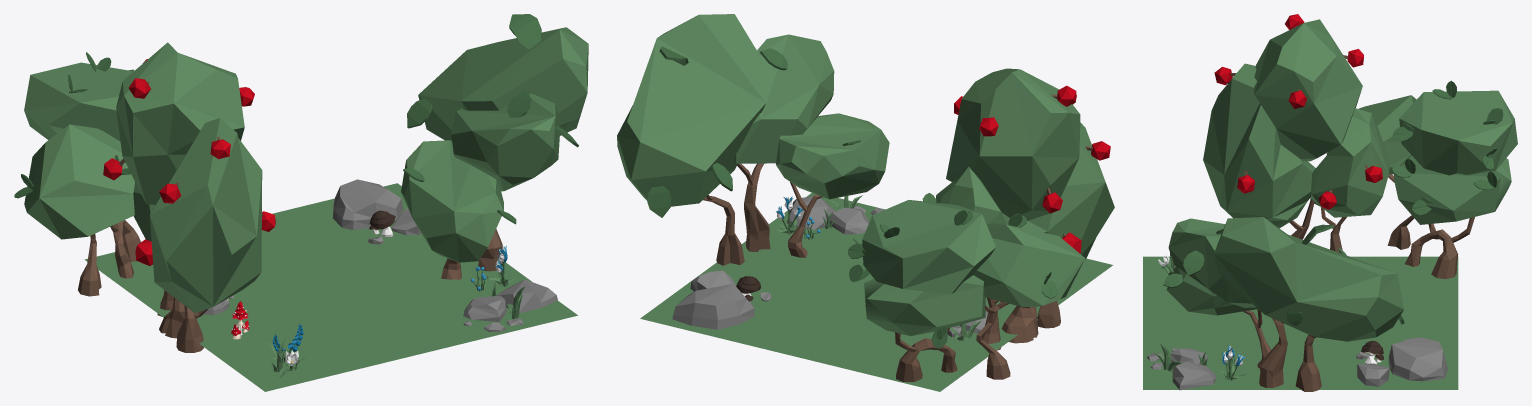
Rendered from emptyTile.fbx.
3 renders of one model, left to right at view 1: azimuth 30°, elevation 25°; view 2: azimuth 150°, elevation 25°; view 3: azimuth 270°, elevation 25°, orthographic. The views are drawn at different scales.
Parts seen in each view (by area): view 1: mashroom_1.005; view 2: mashroom_1.005; view 3: mashroom_1.005.
Part boxes in pixels (box(x1,y1,x2,y2)): mashroom_1.005: box(14, 14, 588, 391); mashroom_1.005: box(617, 14, 1114, 391); mashroom_1.005: box(1143, 14, 1517, 391).
Bounding box in the file's own units: 3.22 × 1.72 × 2.38.
